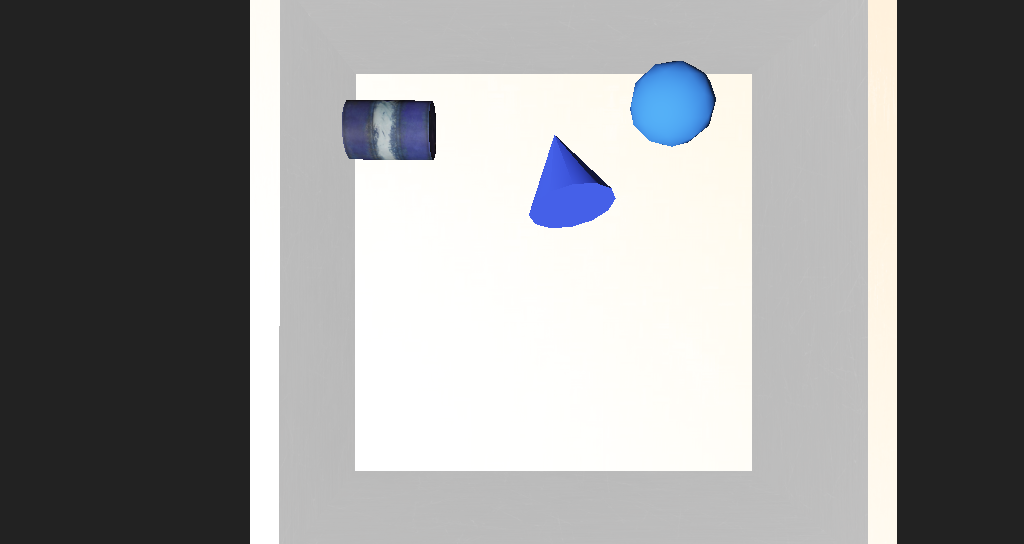cone: (347, 172, 421, 210)
cylinder: (475, 179, 549, 251)
sphere: (559, 160, 627, 203)
